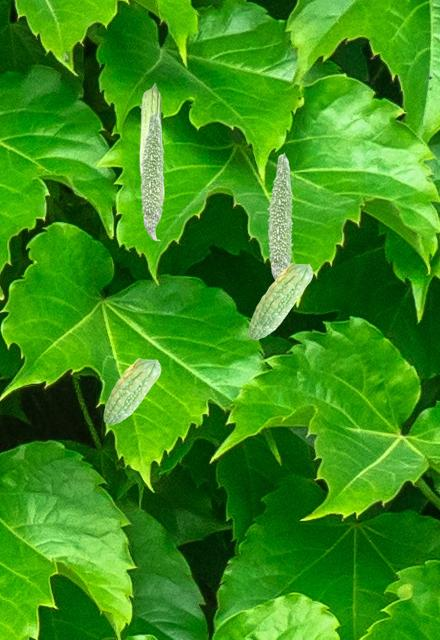ampalaya: (103, 357, 161, 425), (257, 262, 313, 327), (266, 152, 294, 280), (139, 110, 165, 241), (139, 82, 164, 202), (248, 286, 303, 340)
